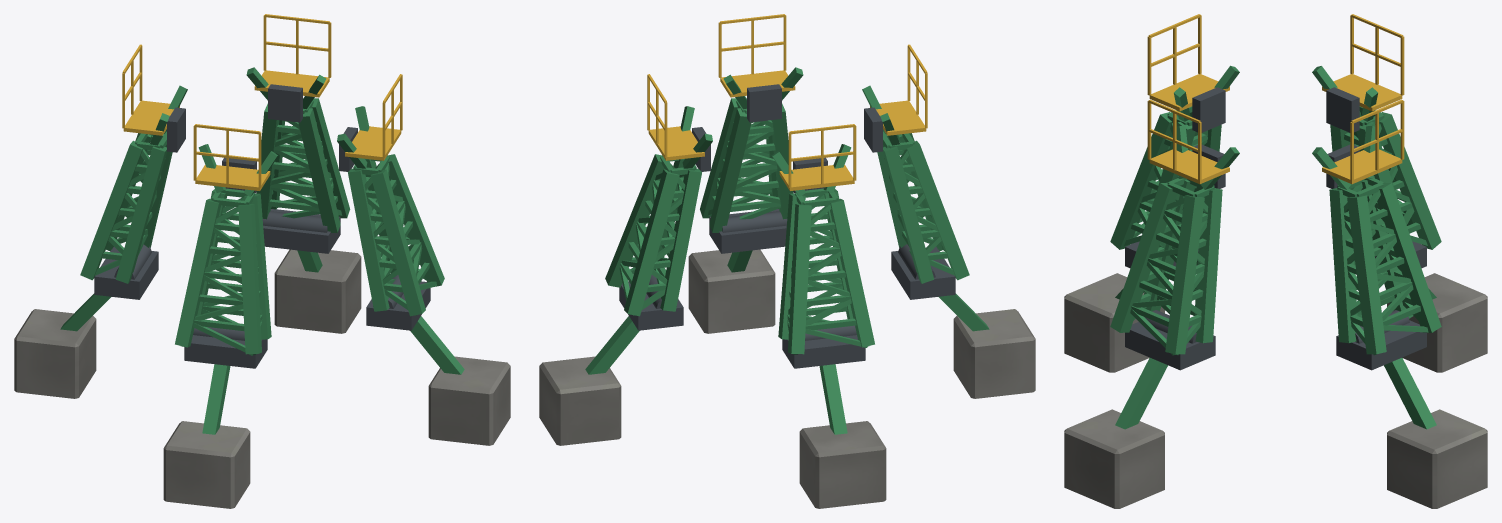
Rendered from soyuz_launcher.glb.
The picture shows the model from 3 angles, left to right: view 1: azimuth 30°, elevation 25°; view 2: azimuth 150°, elevation 25°; view 3: azimuth 270°, elevation 25°; orthographic projection. The views are drawn at different scales.
Parts seen in each view (by area): view 1: pose_arm_3, pose_arm_4, pose_arm_1, pose_arm_2, soyuz_launcher; view 2: pose_arm_2, pose_arm_1, pose_arm_4, pose_arm_3, soyuz_launcher; view 3: pose_arm_4, pose_arm_1, pose_arm_3, pose_arm_2, soyuz_launcher.
Boxes of the visible parts, <box> form: pose_arm_3: <box>163,124,278,508</box>; pose_arm_4: <box>337,74,510,445</box>; pose_arm_1: <box>246,14,361,333</box>; pose_arm_2: <box>14,44,187,398</box>; soyuz_launcher: <box>94,209,430,368</box>; pose_arm_2: <box>771,124,886,508</box>; pose_arm_1: <box>539,74,712,445</box>; pose_arm_4: <box>688,14,803,333</box>; pose_arm_3: <box>862,44,1035,398</box>; soyuz_launcher: <box>619,209,955,368</box>; pose_arm_4: <box>1064,99,1239,508</box>; pose_arm_1: <box>1312,99,1487,508</box>; pose_arm_3: <box>1064,14,1239,372</box>; pose_arm_2: <box>1312,14,1487,372</box>; soyuz_launcher: <box>1125,241,1426,370</box>.
Size of the model in its own units: 5.94 by 5.45 by 5.94.
Materials: 4 (1 with a texture image).
